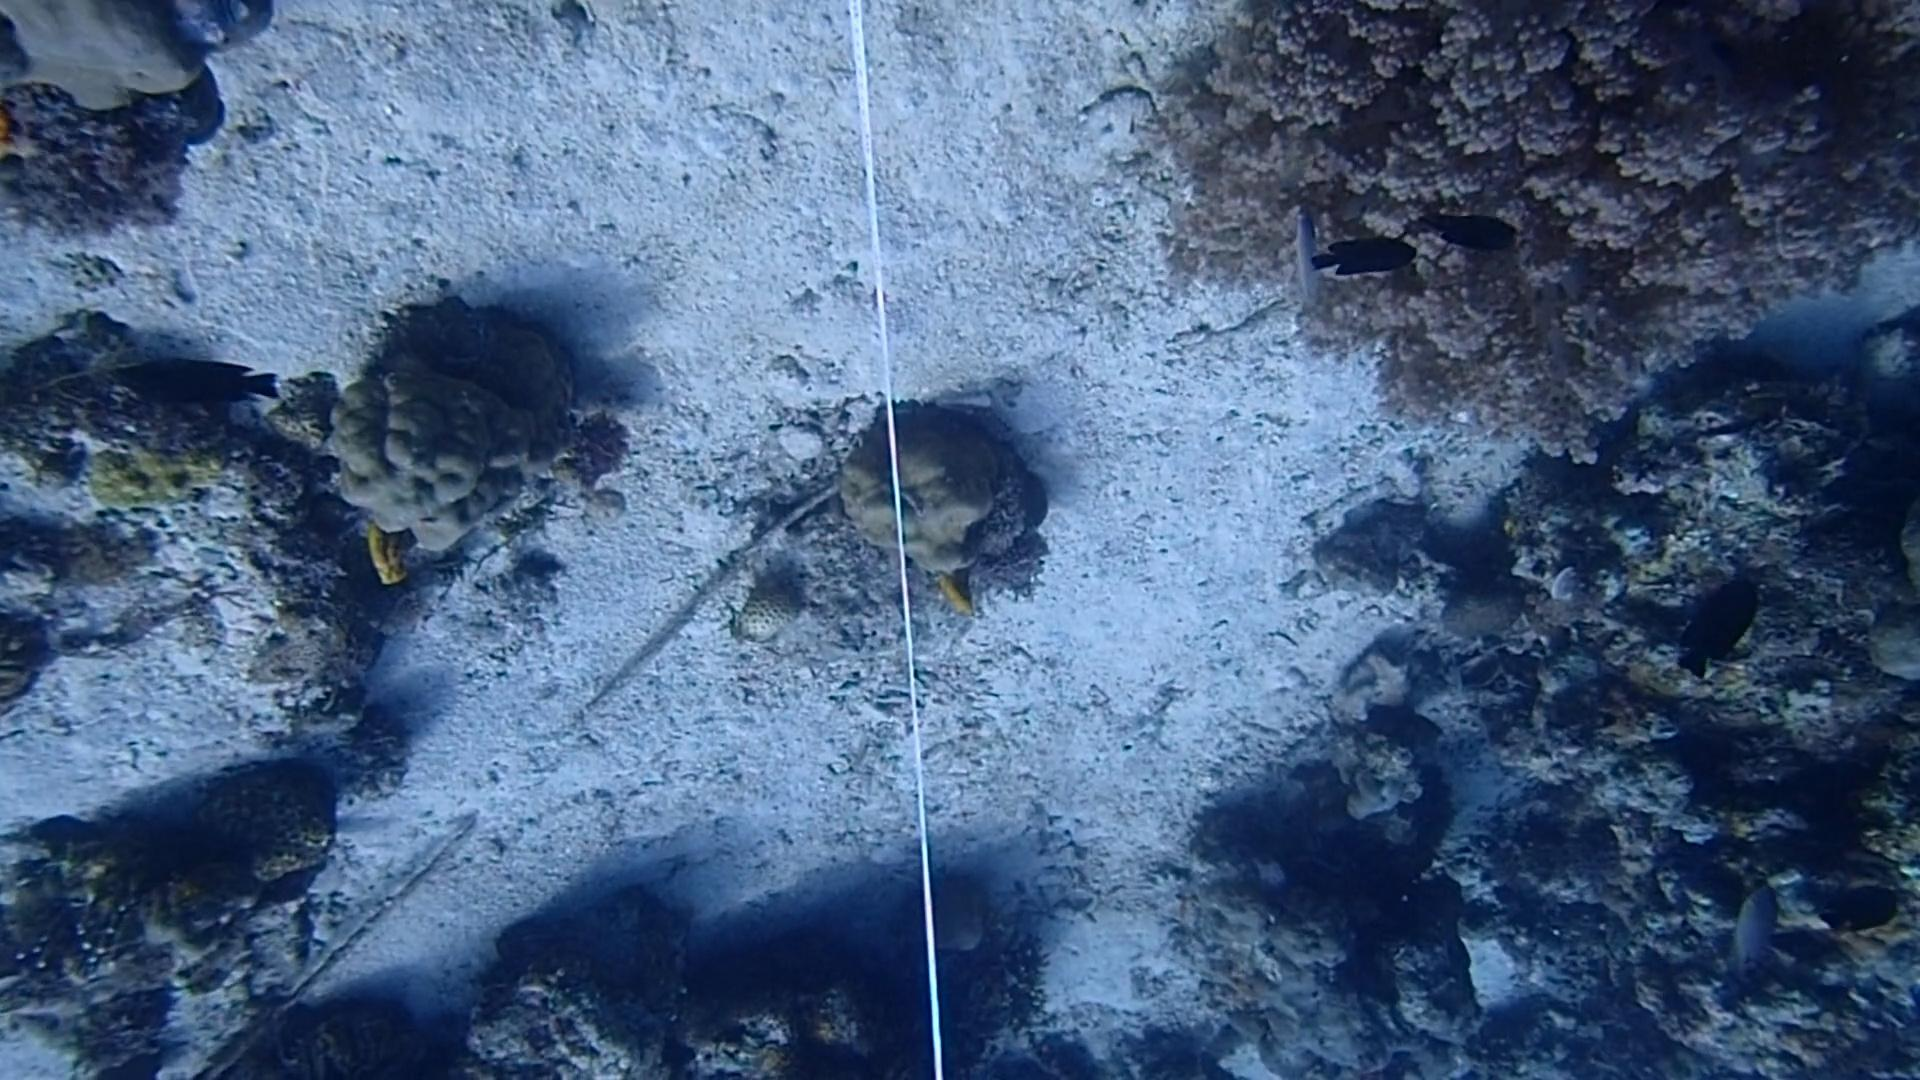Dark Fish: (95, 345, 274, 429), (1660, 563, 1771, 691), (1391, 204, 1523, 277), (1797, 868, 1902, 959), (1294, 228, 1416, 293)
Light Fish: (1712, 874, 1791, 990), (1284, 203, 1331, 309)
